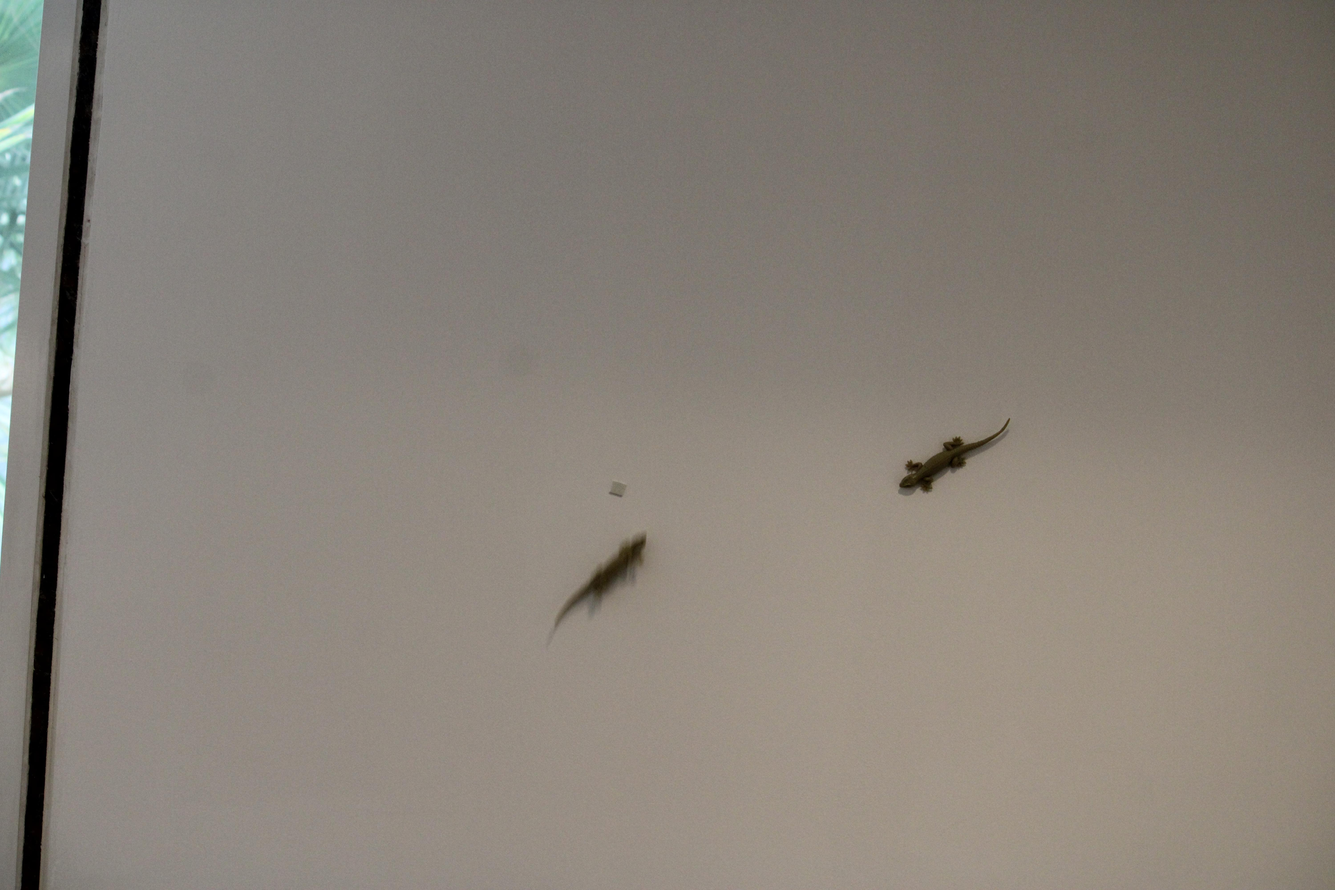lizard: (550, 510, 646, 655), (884, 412, 1006, 511)
